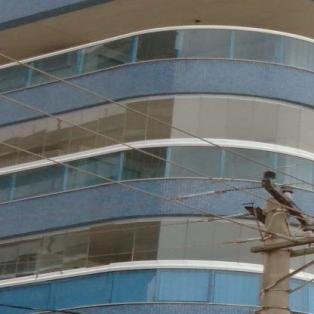Poste: (228, 193, 306, 314)
